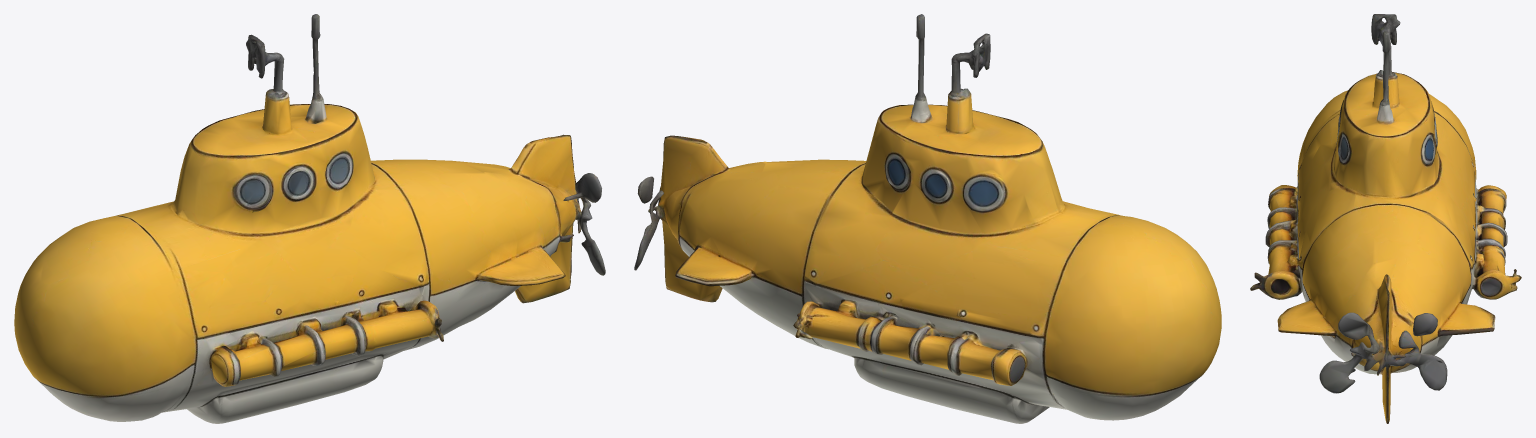
The model's file is ship-sub.opt.glb.
3 renders of one model, left to right at view 1: azimuth 30°, elevation 25°; view 2: azimuth 150°, elevation 25°; view 3: azimuth 270°, elevation 25°, orthographic. The views are drawn at different scales.
Bounding box in the file's own units: 2 × 1.28 × 0.9972.
Materials: 1 (1 with a texture image).
